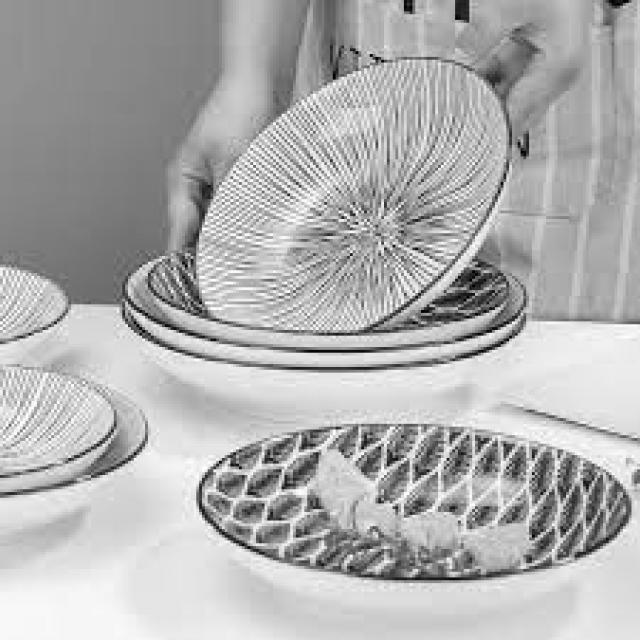dish: (175, 396, 635, 610)
